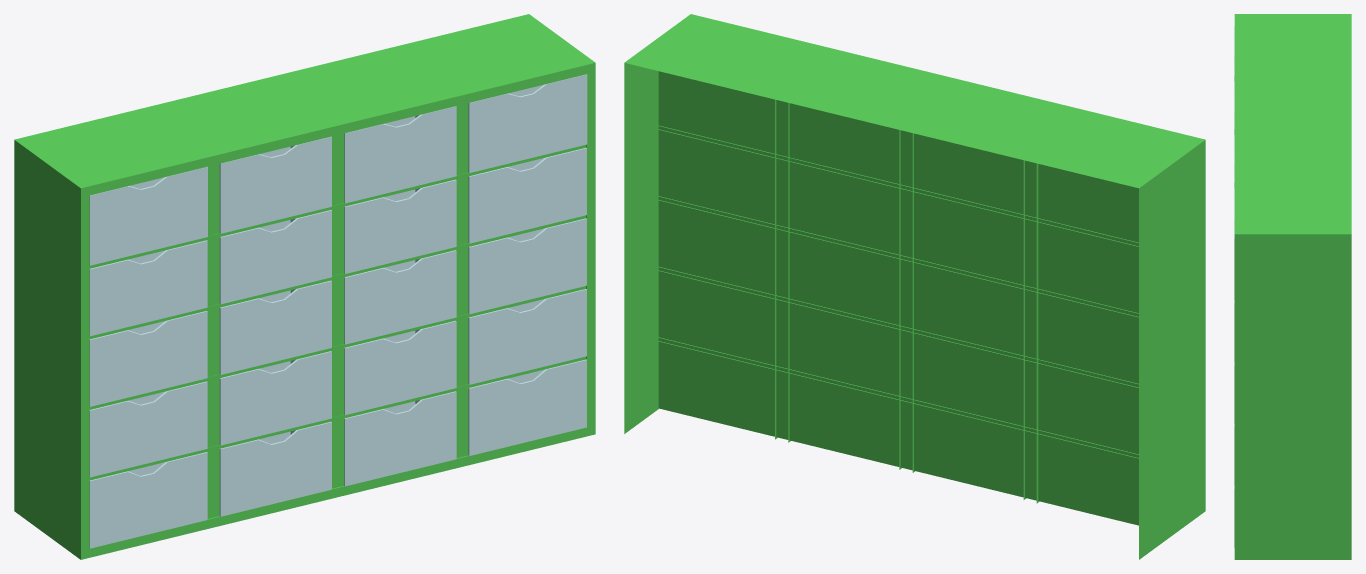
Rendered from SM_ClosetOrganizer.fbx.
3 views of the same model, side by side, from view 1: azimuth 30°, elevation 25°; view 2: azimuth 150°, elevation 25°; view 3: azimuth 270°, elevation 25° (orthographic). The views are drawn at different scales.
Parts seen in each view (by area): view 1: ClosetOrganizer, Box 2, Box 1, Box 5, Box 6, Box 9, Box 18, Box 13, Box 14, Box 17, Box 10, Box 3 (+9 smaller); view 2: ClosetOrganizer; view 3: ClosetOrganizer.
Part boxes in pixels (left/top/right/bottom): ClosetOrganizer: left=14, top=14, right=595, bottom=559; Box 2: left=468, top=74, right=587, bottom=172; Box 1: left=89, top=166, right=207, bottom=265; Box 5: left=89, top=452, right=207, bottom=548; Box 6: left=468, top=359, right=586, bottom=455; Box 9: left=89, top=381, right=207, bottom=477; Box 18: left=468, top=147, right=586, bottom=243; Box 13: left=89, top=311, right=207, bottom=406; Box 14: left=468, top=218, right=586, bottom=314; Box 17: left=89, top=240, right=207, bottom=336; Box 10: left=468, top=289, right=586, bottom=384; Box 3: left=344, top=106, right=456, bottom=203; ClosetOrganizer: left=624, top=14, right=1205, bottom=559; ClosetOrganizer: left=1234, top=14, right=1351, bottom=559.
Size of the model in its own units: 290 by 200 by 65.25.
